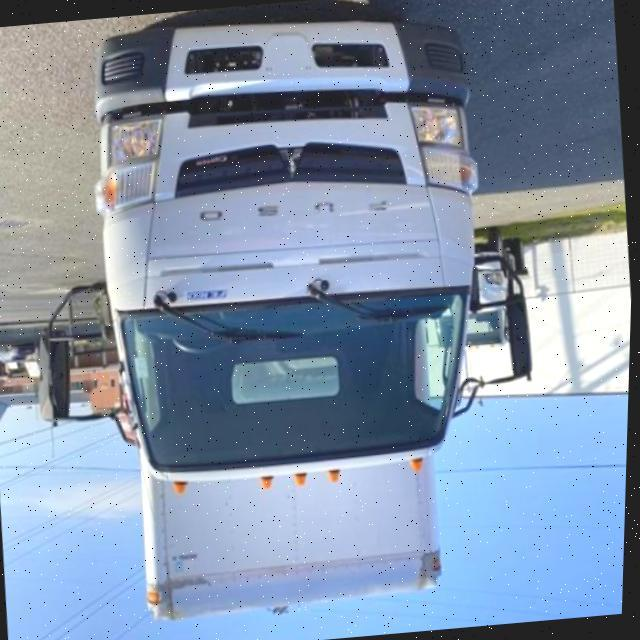truck: (17, 0, 564, 635)
